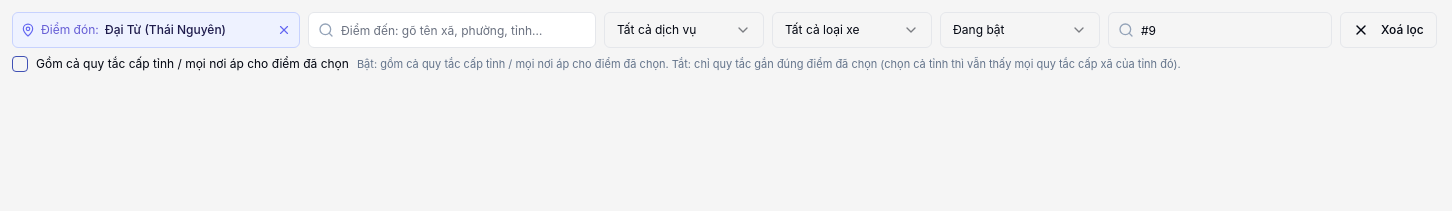
Test: MacroSearchBar — «Xoá lọc» › chỉ hiện khi đang lọc; bấm ⇒ về bộ lọc rỗng (cover bật lại) và xoá cả chữ gõ dở trong ô điểm
This screenshot has width=1452, height=211.
Type "phu" into the dropdown named "Điểm đến: tìm phường/xã, tỉnh hoặc điểm đặc biệt" at (452, 30), box [308,12,596,48]
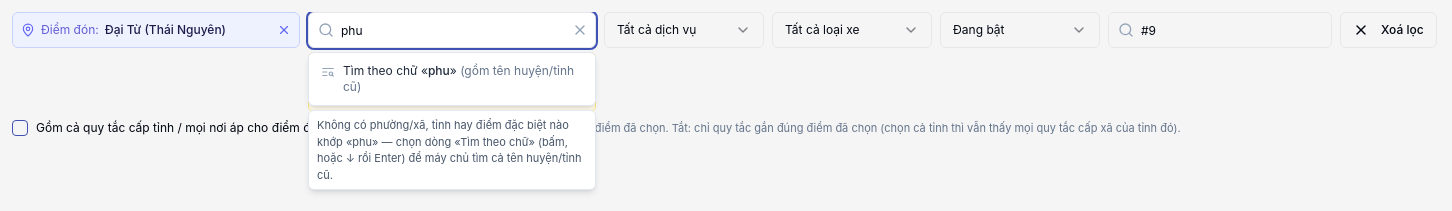
Click the button "Xoá lọc" at (1388, 30), box [1340,12,1437,48]
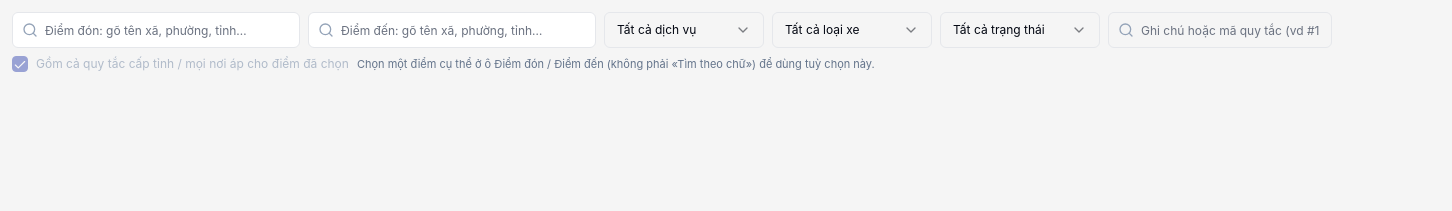
Check: the button "Xoá lọc" is gone
Check: the dropdown named "Điểm đến: tìm phường/xã, tỉnh hoặc điểm đặc biệt" is empty, box [308,12,596,48]
Check: the dropdown named "Điểm đón: tìm phường/xã, tỉnh hoặc điểm đặc biệt" is empty, box [12,12,300,48]
